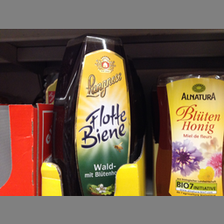honey: (55, 35, 140, 194), (156, 75, 224, 196)
